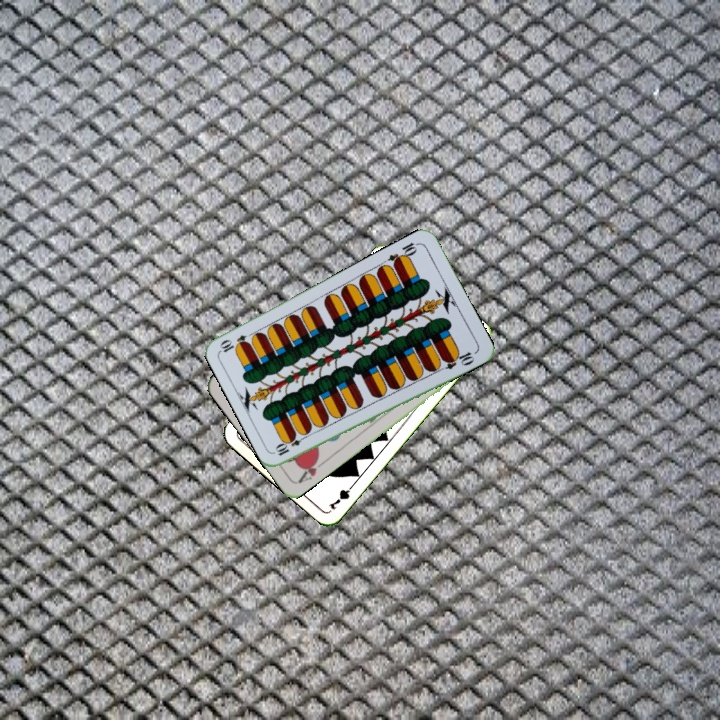E10: (384, 238, 422, 269), (272, 430, 310, 459)
G7: (324, 479, 358, 513)
HA: (294, 452, 329, 486)
